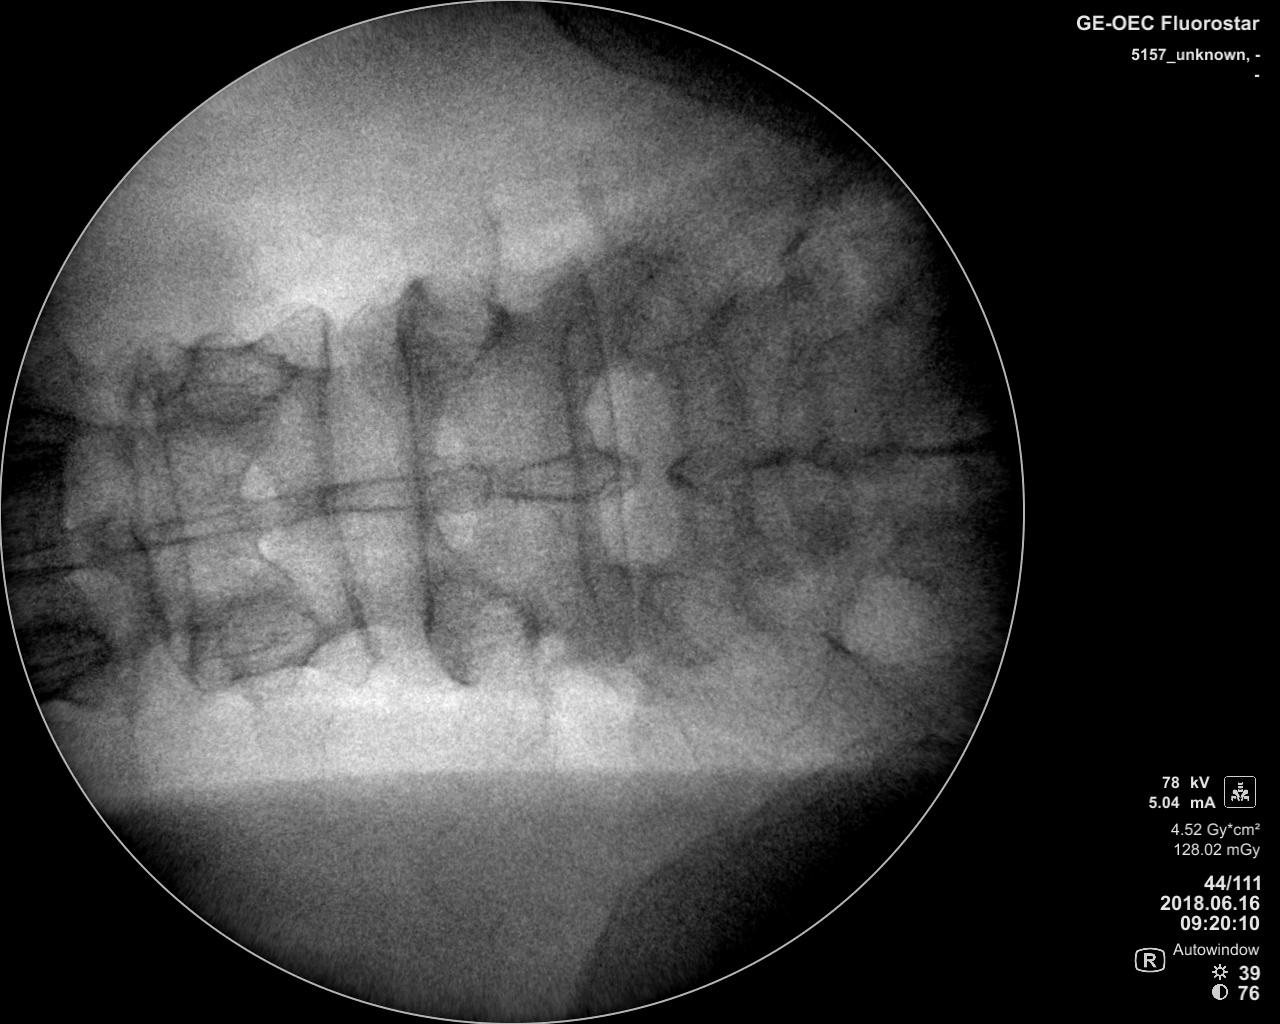eyes: (392, 263, 515, 380), (418, 573, 541, 685), (176, 328, 292, 424), (202, 592, 321, 681)
line: (552, 240, 639, 676), (302, 290, 389, 681), (374, 262, 445, 673), (124, 338, 203, 685)
nose: (311, 461, 497, 519), (136, 489, 303, 550), (493, 436, 632, 506), (10, 526, 127, 577)
